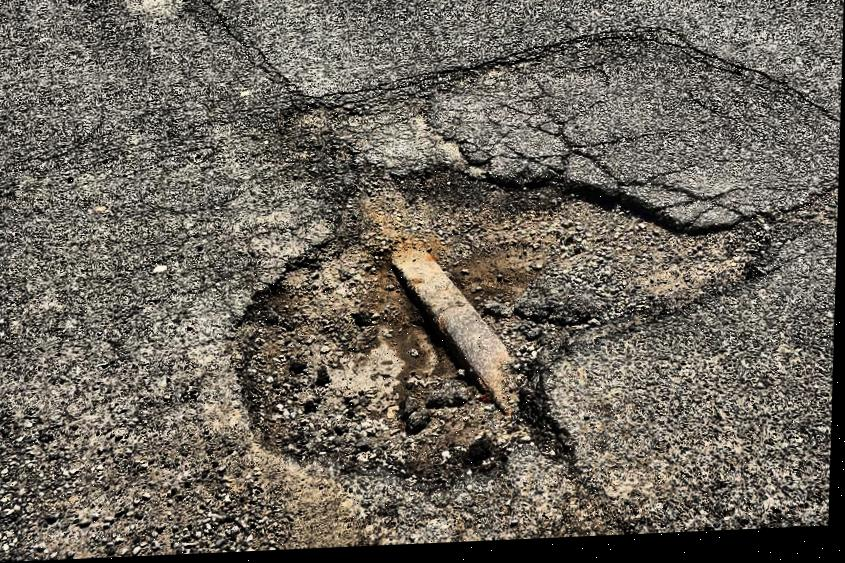pothole: (230, 149, 701, 505)
